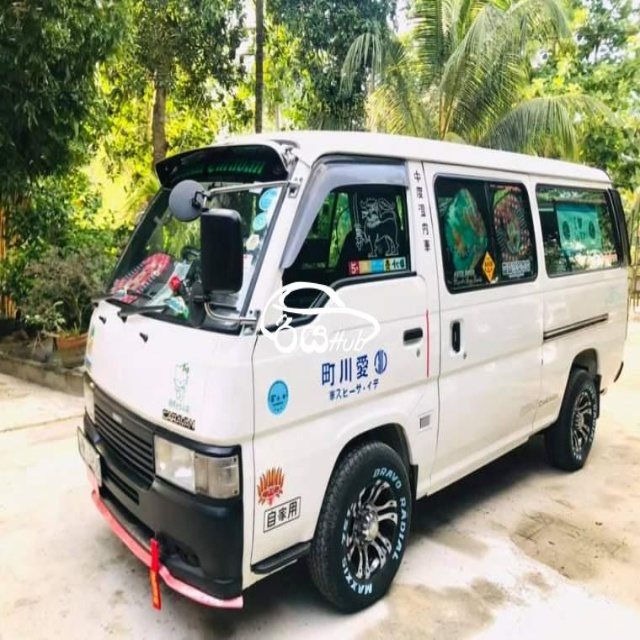Van: (77, 129, 629, 614)
